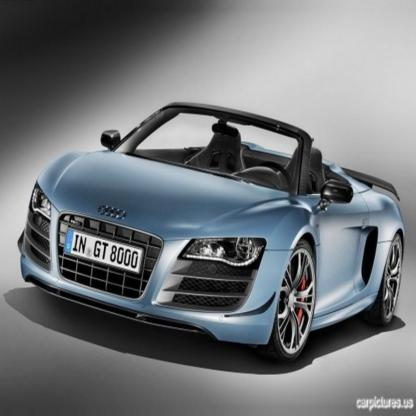Car: (18, 102, 406, 363)
